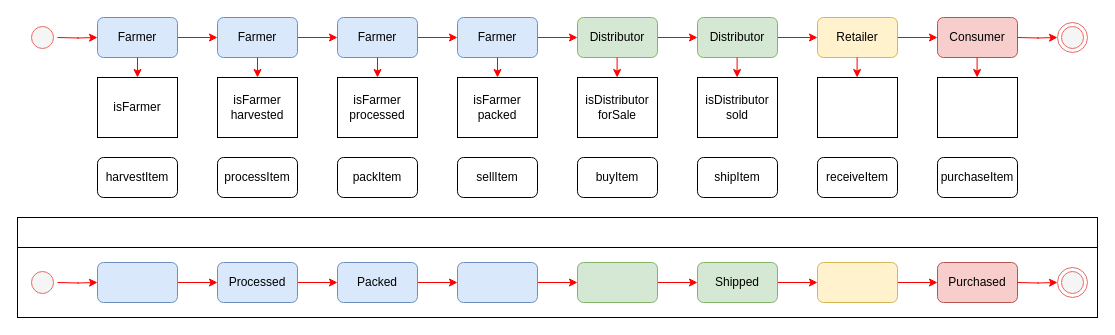
This 1115x335 diagram has some shape labels left out. The shapes that lost their labels are listed below. From the top down, each one's centre as x and y in pixels, then its label:
(857,107): isRetailer shipped
(977,107): isConsumer received
(557,232): ITEM STATE
(137,282): Harvested
(497,282): For Sale
(617,282): Sold
(857,282): Received
